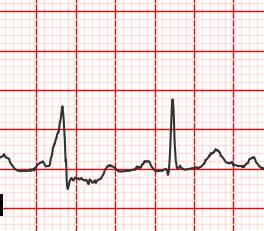ST Depression: (43, 155, 76, 192)
